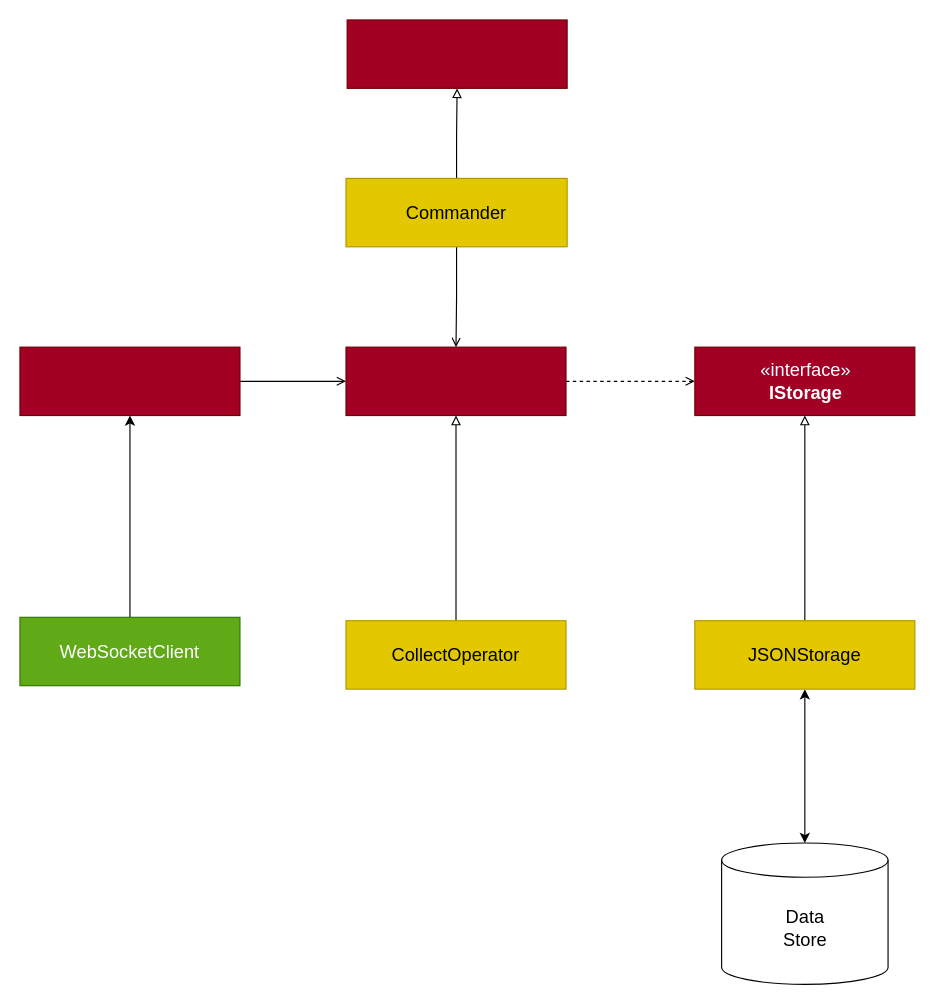
The diagram is 935 pixels wide and 1004 high, and some of its shapes have lost their labels. Each missing label, with the centre of its shape:
"«interface» ICommander" belongs at point (456, 53).
"«interface» IResouceOperator" belongs at point (455, 381).
"«interface» WebSocketClient" belongs at point (129, 381).
